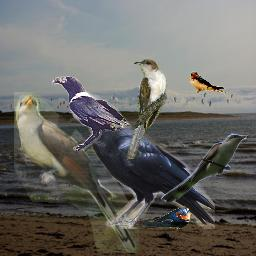Crow: (68, 105, 215, 229), (52, 76, 132, 151)
Cuckoo: (14, 92, 139, 253), (161, 133, 248, 202), (127, 59, 167, 159)
Swallow: (135, 207, 191, 229), (189, 71, 229, 95)
